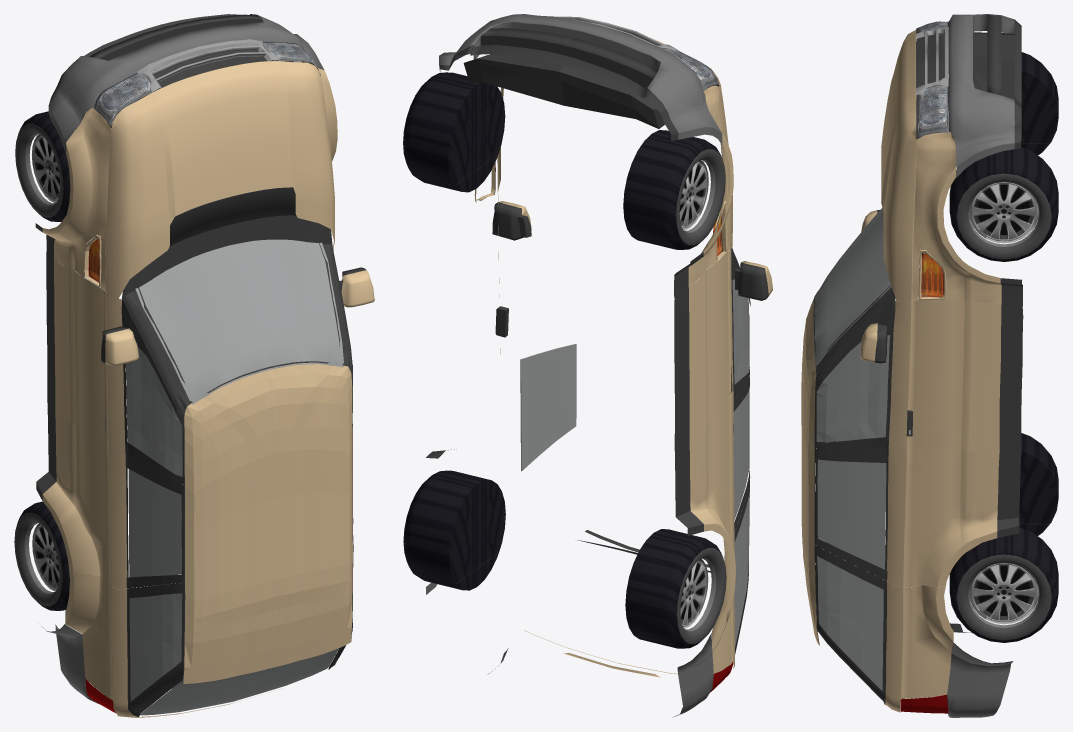
Rendered from SUV.gltf.
3 renders of one model, left to right at view 1: azimuth 30°, elevation 25°; view 2: azimuth 150°, elevation 25°; view 3: azimuth 270°, elevation 25°, orthographic. The views are drawn at different scales.
Parts seen in each view (by area): view 1: Chassis_000_Plane_027_Car_Body_Paint_000, Hood_000_Plane_029_Car_Body_Paint_000, Windscreen_000_Plane_017_Tinted_Glass_000, Door_Rear_000_Plane_024_Car_Body_Paint_000, Door_Front_000_Plane_025_Car_Body_Paint_000, Chassis_000_Plane_027_Shiny_Plastic_000, Front_Wings_000_Plane_026_Car_Body_Paint_000, Front_Bumper_000_Plane_062_Car_Body_Paint_000, Body_Rear_000_Plane_014_Car_Body_Paint_000, Line002, Window_Front_Left_000_Plane_020_Tinted_Glass_000, Window_Near_Rear_000_Plane_011_Tinted_Glass_000 (+13 smaller); view 2: tyre002, tyre01, Front_Bumper_000_Plane_062_Car_Body_Paint_000, Door_Front_000_Plane_025_Car_Body_Paint_000, Plane_002_Plane_023_Material_031, Front_Bumper_000_Plane_062_Shiny_Plastic_000, Line001, Door_Rear_000_Plane_024_Car_Body_Paint_000, Door_Front_000_Plane_025_Shiny_Plastic_000, Body_Rear_000_Plane_014_Car_Body_Paint_000, Side_mirrors_000_Plane_028_Shiny_Plastic_000, Door_Rear_000_Plane_024_Shiny_Plastic_000 (+10 smaller); view 3: Door_Front_000_Plane_025_Car_Body_Paint_000, Door_Rear_000_Plane_024_Car_Body_Paint_000, tyre002, tyre01, Hood_000_Plane_029_Car_Body_Paint_000, Body_Rear_000_Plane_014_Car_Body_Paint_000, Front_Wings_000_Plane_026_Car_Body_Paint_000, Front_Bumper_000_Plane_062_Car_Body_Paint_000, Line001, Windscreen_000_Plane_017_Tinted_Glass_000, Window_Near_Rear_000_Plane_011_Tinted_Glass_000, Window_Front_Right_000_Plane_021_Tinted_Glass_000 (+16 smaller).
Part boxes in pixels (left/top/right/bottom): Chassis_000_Plane_027_Car_Body_Paint_000: left=183, top=362, right=352, bottom=683; Hood_000_Plane_029_Car_Body_Paint_000: left=105, top=61, right=334, bottom=298; Windscreen_000_Plane_017_Tinted_Glass_000: left=135, top=239, right=343, bottom=404; Door_Rear_000_Plane_024_Car_Body_Paint_000: left=42, top=411, right=127, bottom=589; Door_Front_000_Plane_025_Car_Body_Paint_000: left=54, top=243, right=333, bottom=452; Chassis_000_Plane_027_Shiny_Plastic_000: left=121, top=215, right=353, bottom=683; Front_Wings_000_Plane_026_Car_Body_Paint_000: left=42, top=68, right=337, bottom=291; Front_Bumper_000_Plane_062_Car_Body_Paint_000: left=48, top=14, right=324, bottom=152; Body_Rear_000_Plane_014_Car_Body_Paint_000: left=65, top=569, right=337, bottom=717; Line002: left=128, top=469, right=181, bottom=577; Window_Front_Left_000_Plane_020_Tinted_Glass_000: left=125, top=347, right=182, bottom=476; Window_Near_Rear_000_Plane_011_Tinted_Glass_000: left=129, top=593, right=182, bottom=701; tyre002: left=403, top=72, right=725, bottom=249; tyre01: left=403, top=470, right=726, bottom=648; Front_Bumper_000_Plane_062_Car_Body_Paint_000: left=439, top=14, right=722, bottom=144; Door_Front_000_Plane_025_Car_Body_Paint_000: left=498, top=194, right=733, bottom=439; Plane_002_Plane_023_Material_031: left=463, top=54, right=664, bottom=128; Front_Bumper_000_Plane_062_Shiny_Plastic_000: left=440, top=28, right=678, bottom=140; Line001: left=520, top=344, right=576, bottom=471; Door_Rear_000_Plane_024_Car_Body_Paint_000: left=437, top=348, right=735, bottom=561; Door_Front_000_Plane_025_Shiny_Plastic_000: left=674, top=248, right=750, bottom=447; Body_Rear_000_Plane_014_Car_Body_Paint_000: left=524, top=543, right=736, bottom=677; Side_mirrors_000_Plane_028_Shiny_Plastic_000: left=492, top=202, right=768, bottom=300; Door_Rear_000_Plane_024_Shiny_Plastic_000: left=426, top=376, right=749, bottom=535; Door_Front_000_Plane_025_Car_Body_Paint_000: left=888, top=300, right=1001, bottom=451; Door_Rear_000_Plane_024_Car_Body_Paint_000: left=886, top=449, right=999, bottom=587; tyre002: left=949, top=52, right=1058, bottom=261; tyre01: left=949, top=433, right=1058, bottom=642; Hood_000_Plane_029_Car_Body_Paint_000: left=881, top=30, right=916, bottom=301; Body_Rear_000_Plane_014_Car_Body_Paint_000: left=885, top=582, right=953, bottom=712; Front_Wings_000_Plane_026_Car_Body_Paint_000: left=912, top=132, right=1001, bottom=304; Front_Bumper_000_Plane_062_Car_Body_Paint_000: left=948, top=14, right=1014, bottom=177; Line001: left=817, top=459, right=886, bottom=569; Windscreen_000_Plane_017_Tinted_Glass_000: left=813, top=208, right=891, bottom=367; Window_Near_Rear_000_Plane_011_Tinted_Glass_000: left=817, top=556, right=883, bottom=690; Window_Front_Right_000_Plane_021_Tinted_Glass_000: left=816, top=335, right=889, bottom=442.
Size of the model in its own units: 0.5542 by 1.28 by 0.4707.
Materials: 15 (4 with a texture image).
